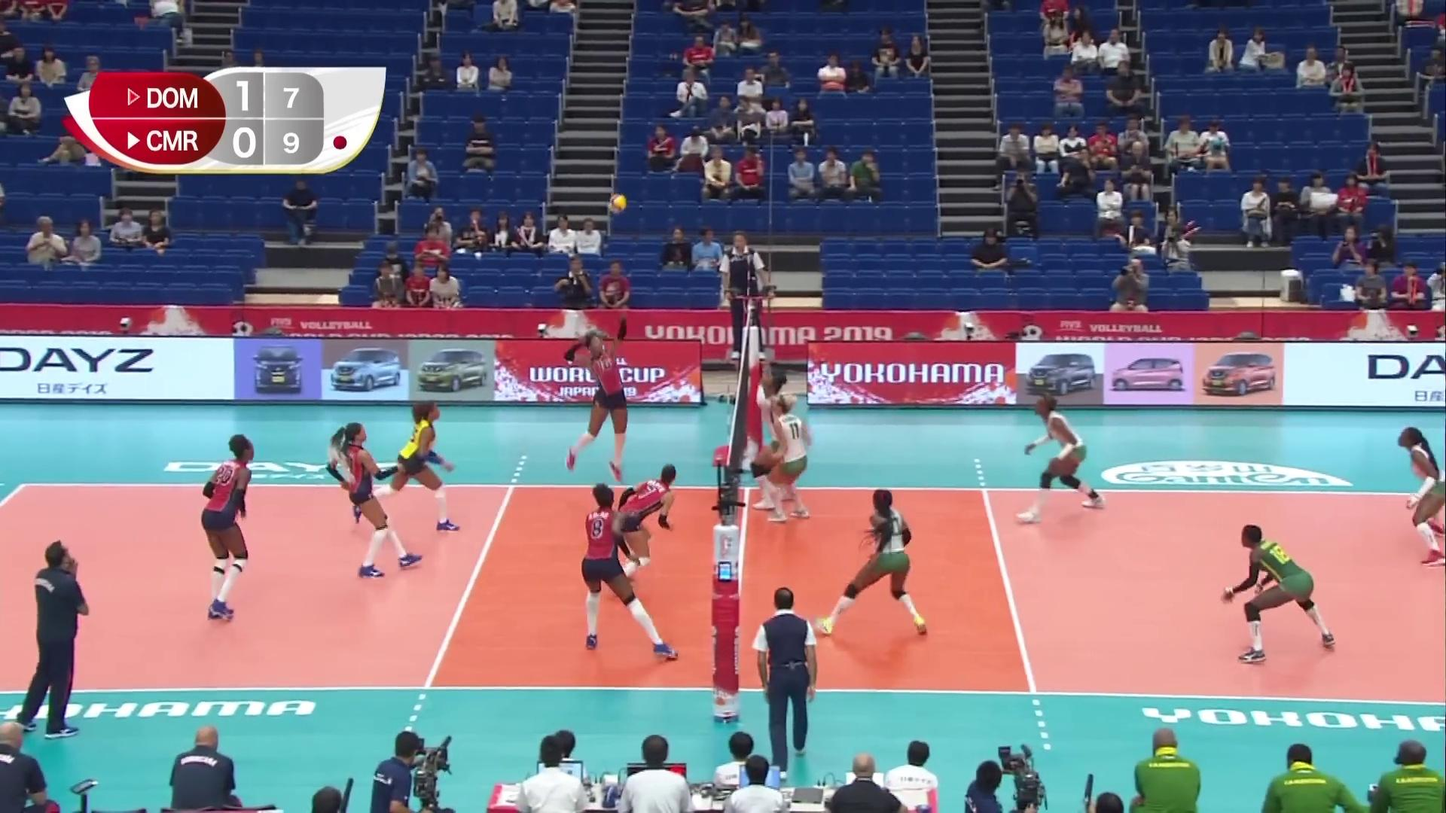player: (577, 490, 677, 664), (813, 490, 927, 638), (1221, 532, 1339, 664), (328, 423, 411, 577), (194, 437, 254, 621), (1022, 393, 1108, 520), (562, 326, 630, 476), (396, 405, 465, 532), (757, 392, 817, 524), (611, 463, 680, 575), (752, 366, 804, 508), (1394, 426, 1446, 567)
refree: (748, 589, 822, 782), (717, 228, 771, 361)
